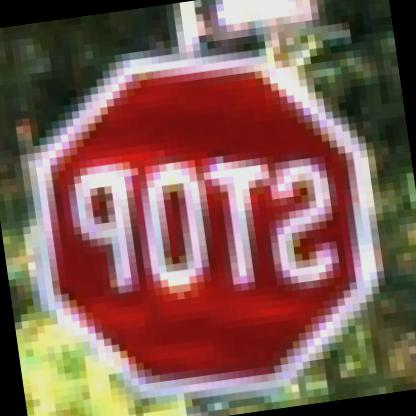stop: (0, 30, 415, 415)
